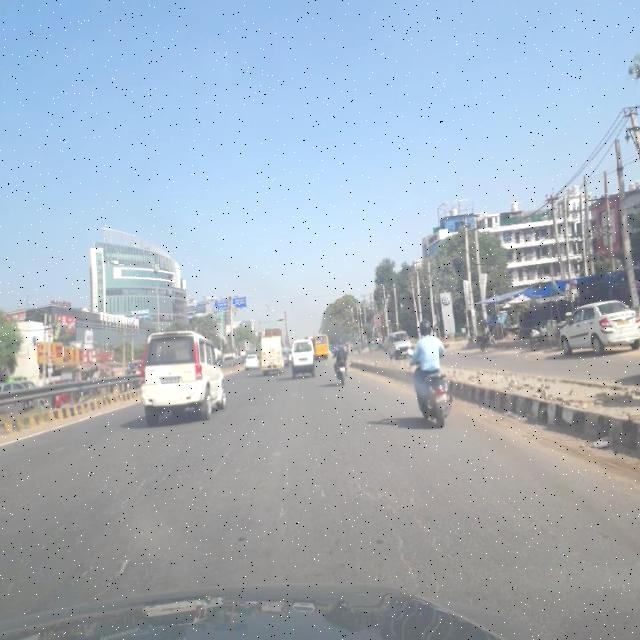D00: (358, 447, 428, 582), (101, 424, 182, 511), (213, 420, 242, 480), (110, 538, 139, 597)
